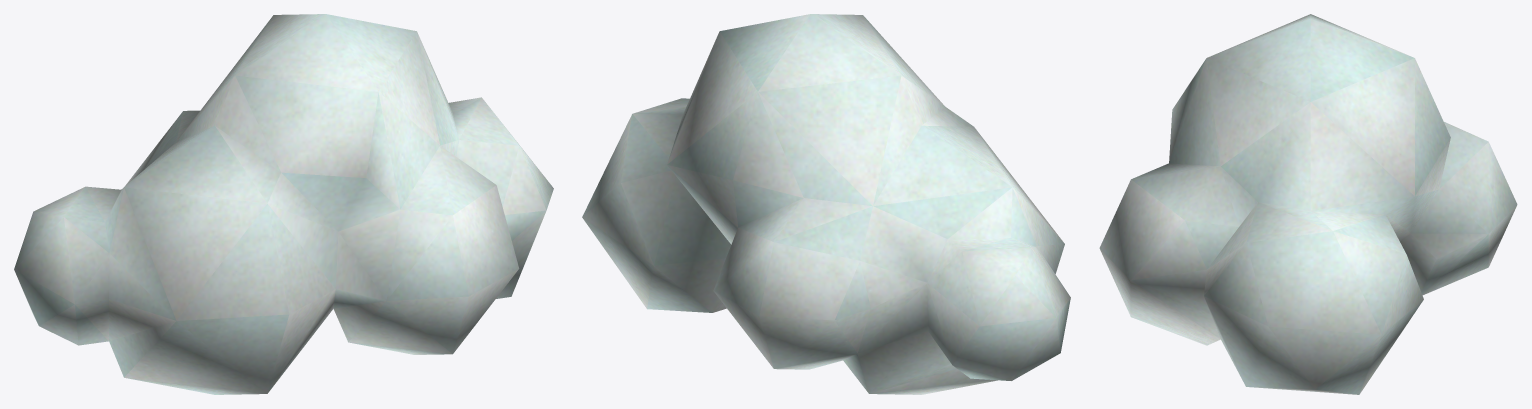
File: Cloud-01.fbx
3 renders of one model, left to right at view 1: azimuth 30°, elevation 25°; view 2: azimuth 150°, elevation 25°; view 3: azimuth 270°, elevation 25°, orthographic.
Visible parts, largest first — view 1: Cloud-01; view 2: Cloud-01; view 3: Cloud-01.
Part boxes in pixels (box(x1,y1,x2,y2)): Cloud-01: box(14, 14, 553, 394); Cloud-01: box(582, 14, 1070, 394); Cloud-01: box(1099, 14, 1517, 394).
Bounding box in the file's own units: 2.17 × 1.51 × 1.63.
